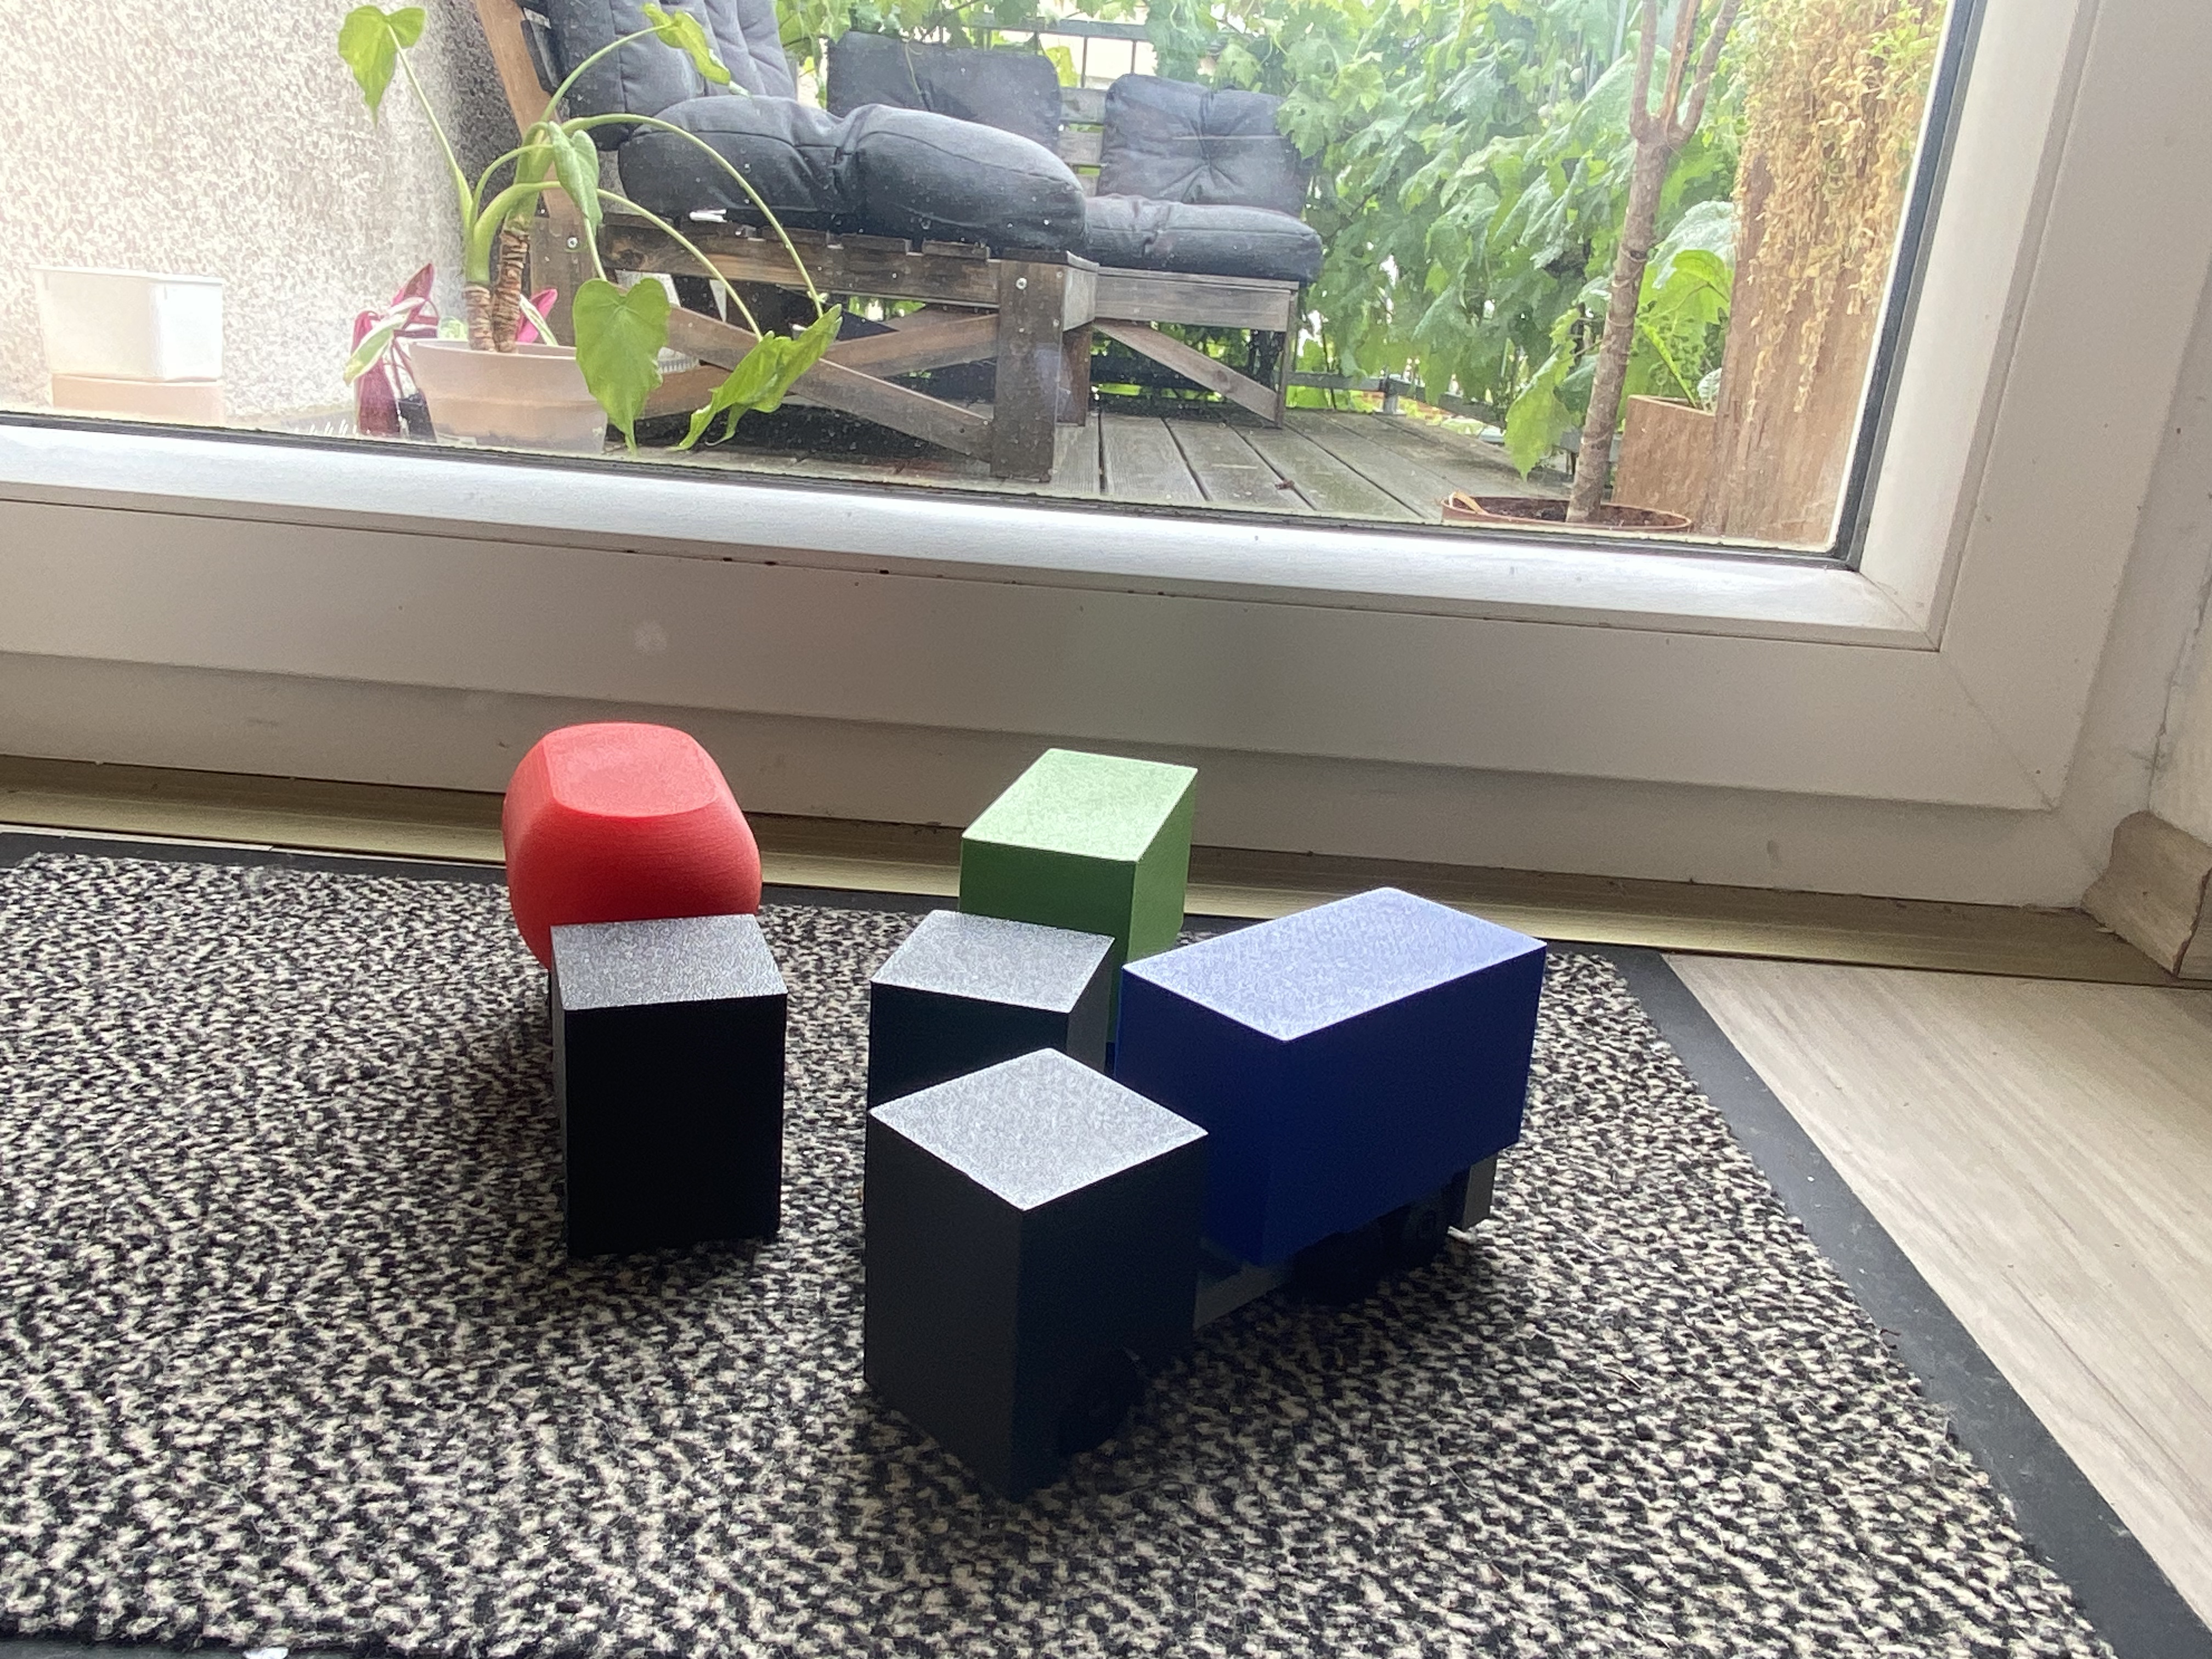blue_truck: (792, 967, 1609, 1345)
green_truck: (911, 711, 1167, 1166)
red_truck: (503, 720, 798, 1249)
